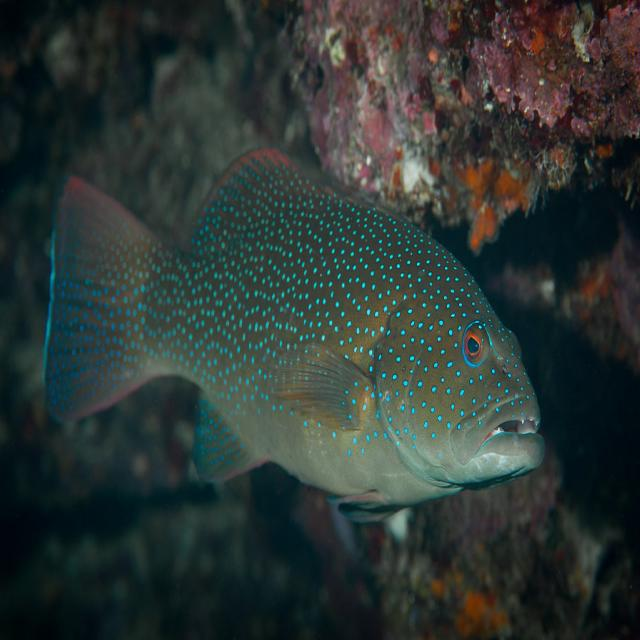Plectropomus-leopardus: (30, 127, 564, 518)
